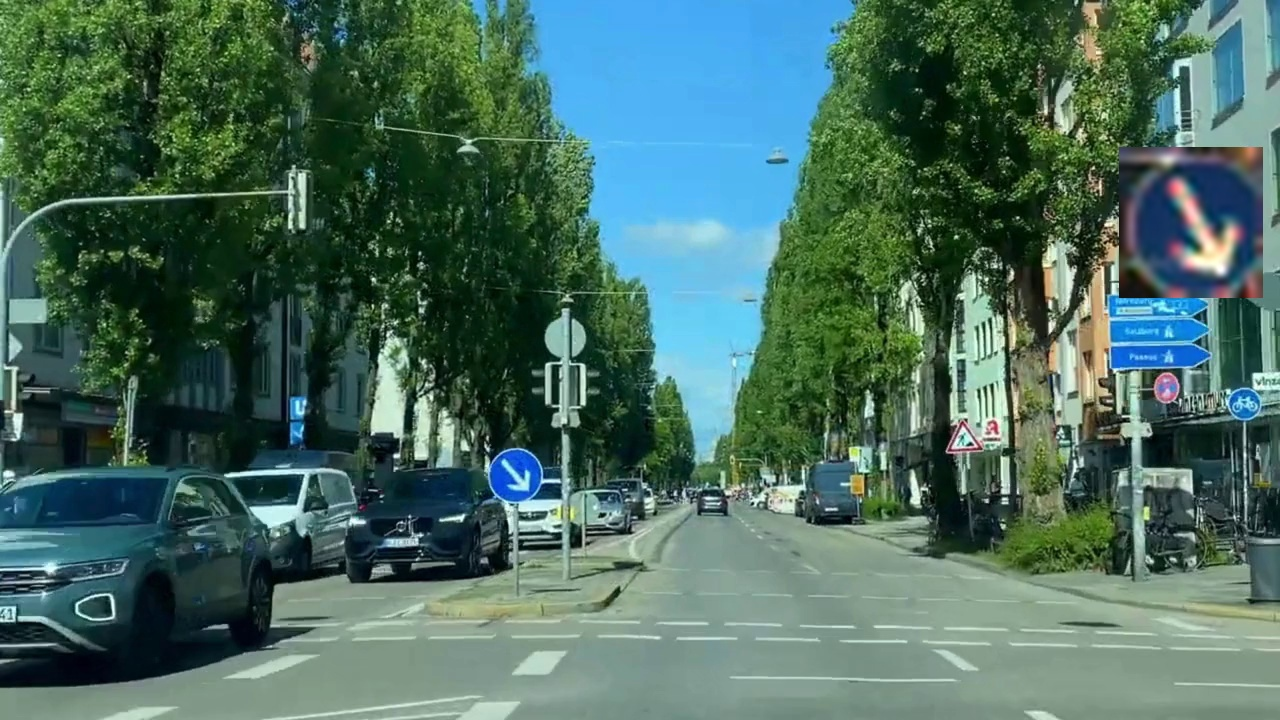Keep right: (1119, 147, 1263, 298)
